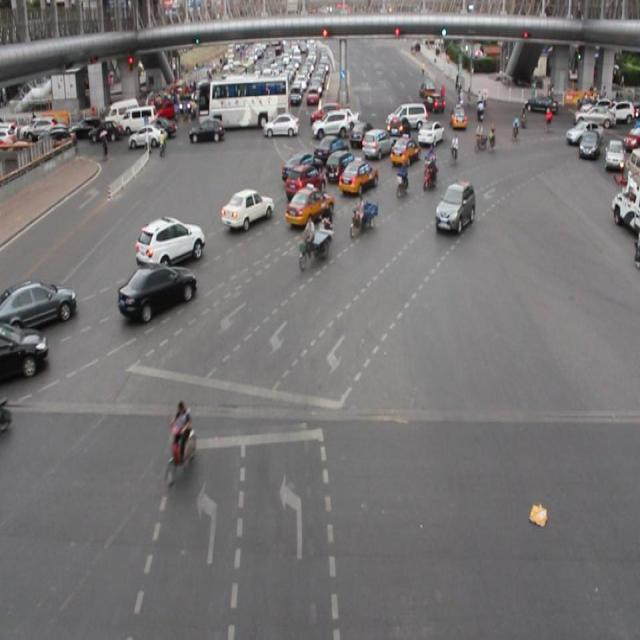car: (118, 264, 198, 319), (135, 216, 206, 266), (1, 278, 76, 324), (0, 322, 50, 387), (220, 188, 274, 230), (434, 177, 476, 231), (285, 186, 334, 228), (338, 157, 378, 195), (286, 162, 325, 200), (282, 152, 322, 186), (325, 149, 359, 183), (315, 132, 350, 164), (390, 135, 420, 170), (361, 126, 391, 160), (416, 118, 444, 144)
